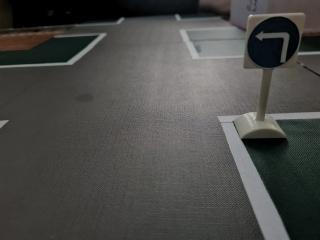left: (243, 13, 303, 72)
